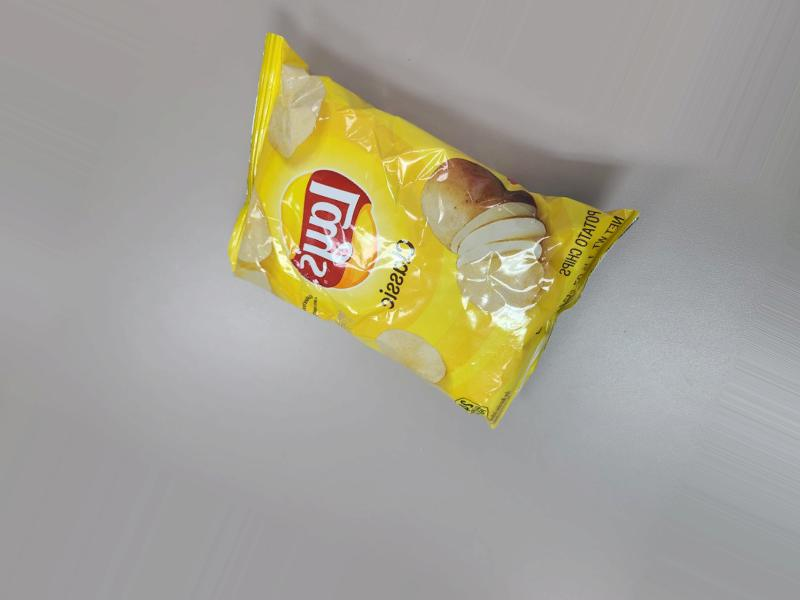lays: (222, 37, 652, 439)
